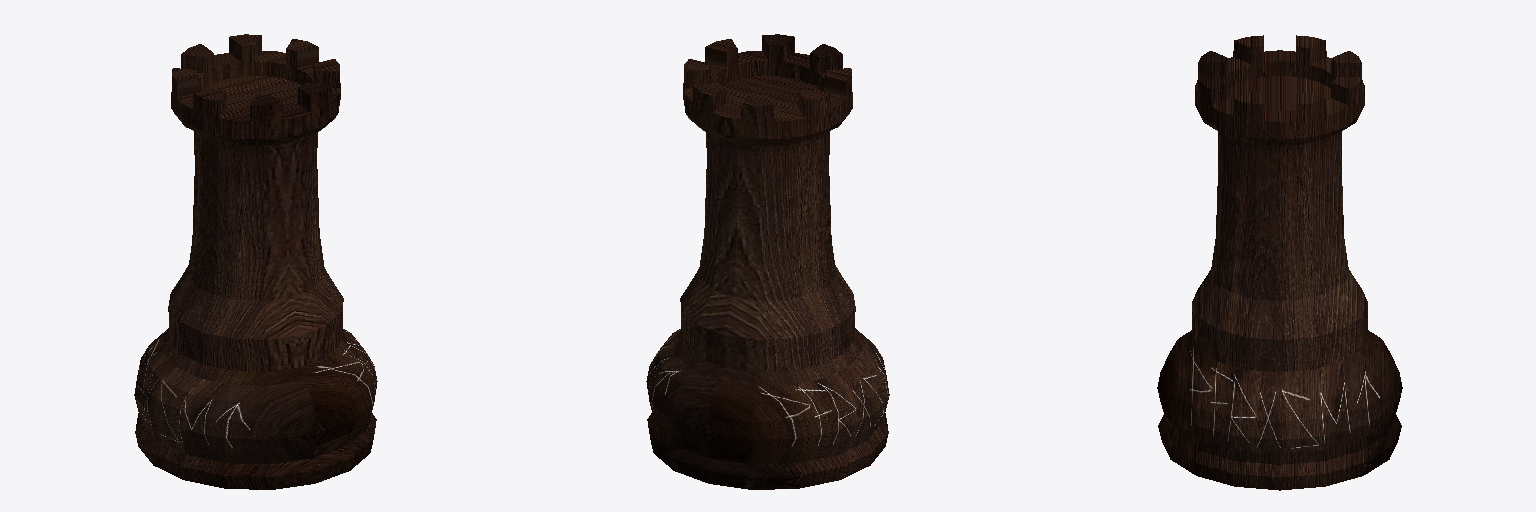
The picture shows the model from 3 angles: view 1: azimuth 30°, elevation 25°; view 2: azimuth 150°, elevation 25°; view 3: azimuth 270°, elevation 25°; orthographic projection.
Visible parts, largest first — view 1: Torre; view 2: Torre; view 3: Torre.
Part boxes in pixels (x1,y1,x2,y2): Torre: (134,34,377,489); Torre: (646,34,889,489); Torre: (1157,35,1402,490).
Bounding box in the file's own units: 0.6309 × 1.06 × 0.6309.
Materials: 2 (2 with a texture image).